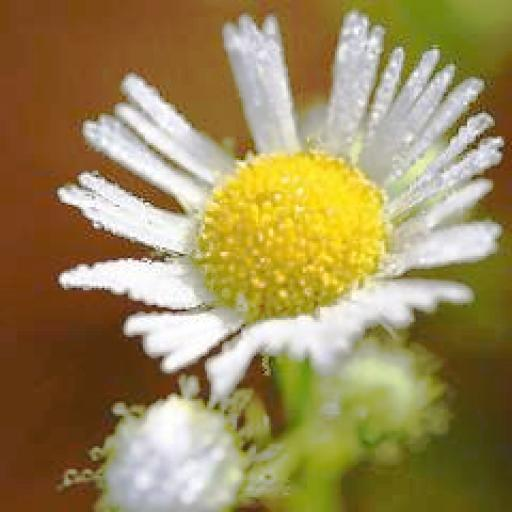daisy: (96, 34, 478, 356)
